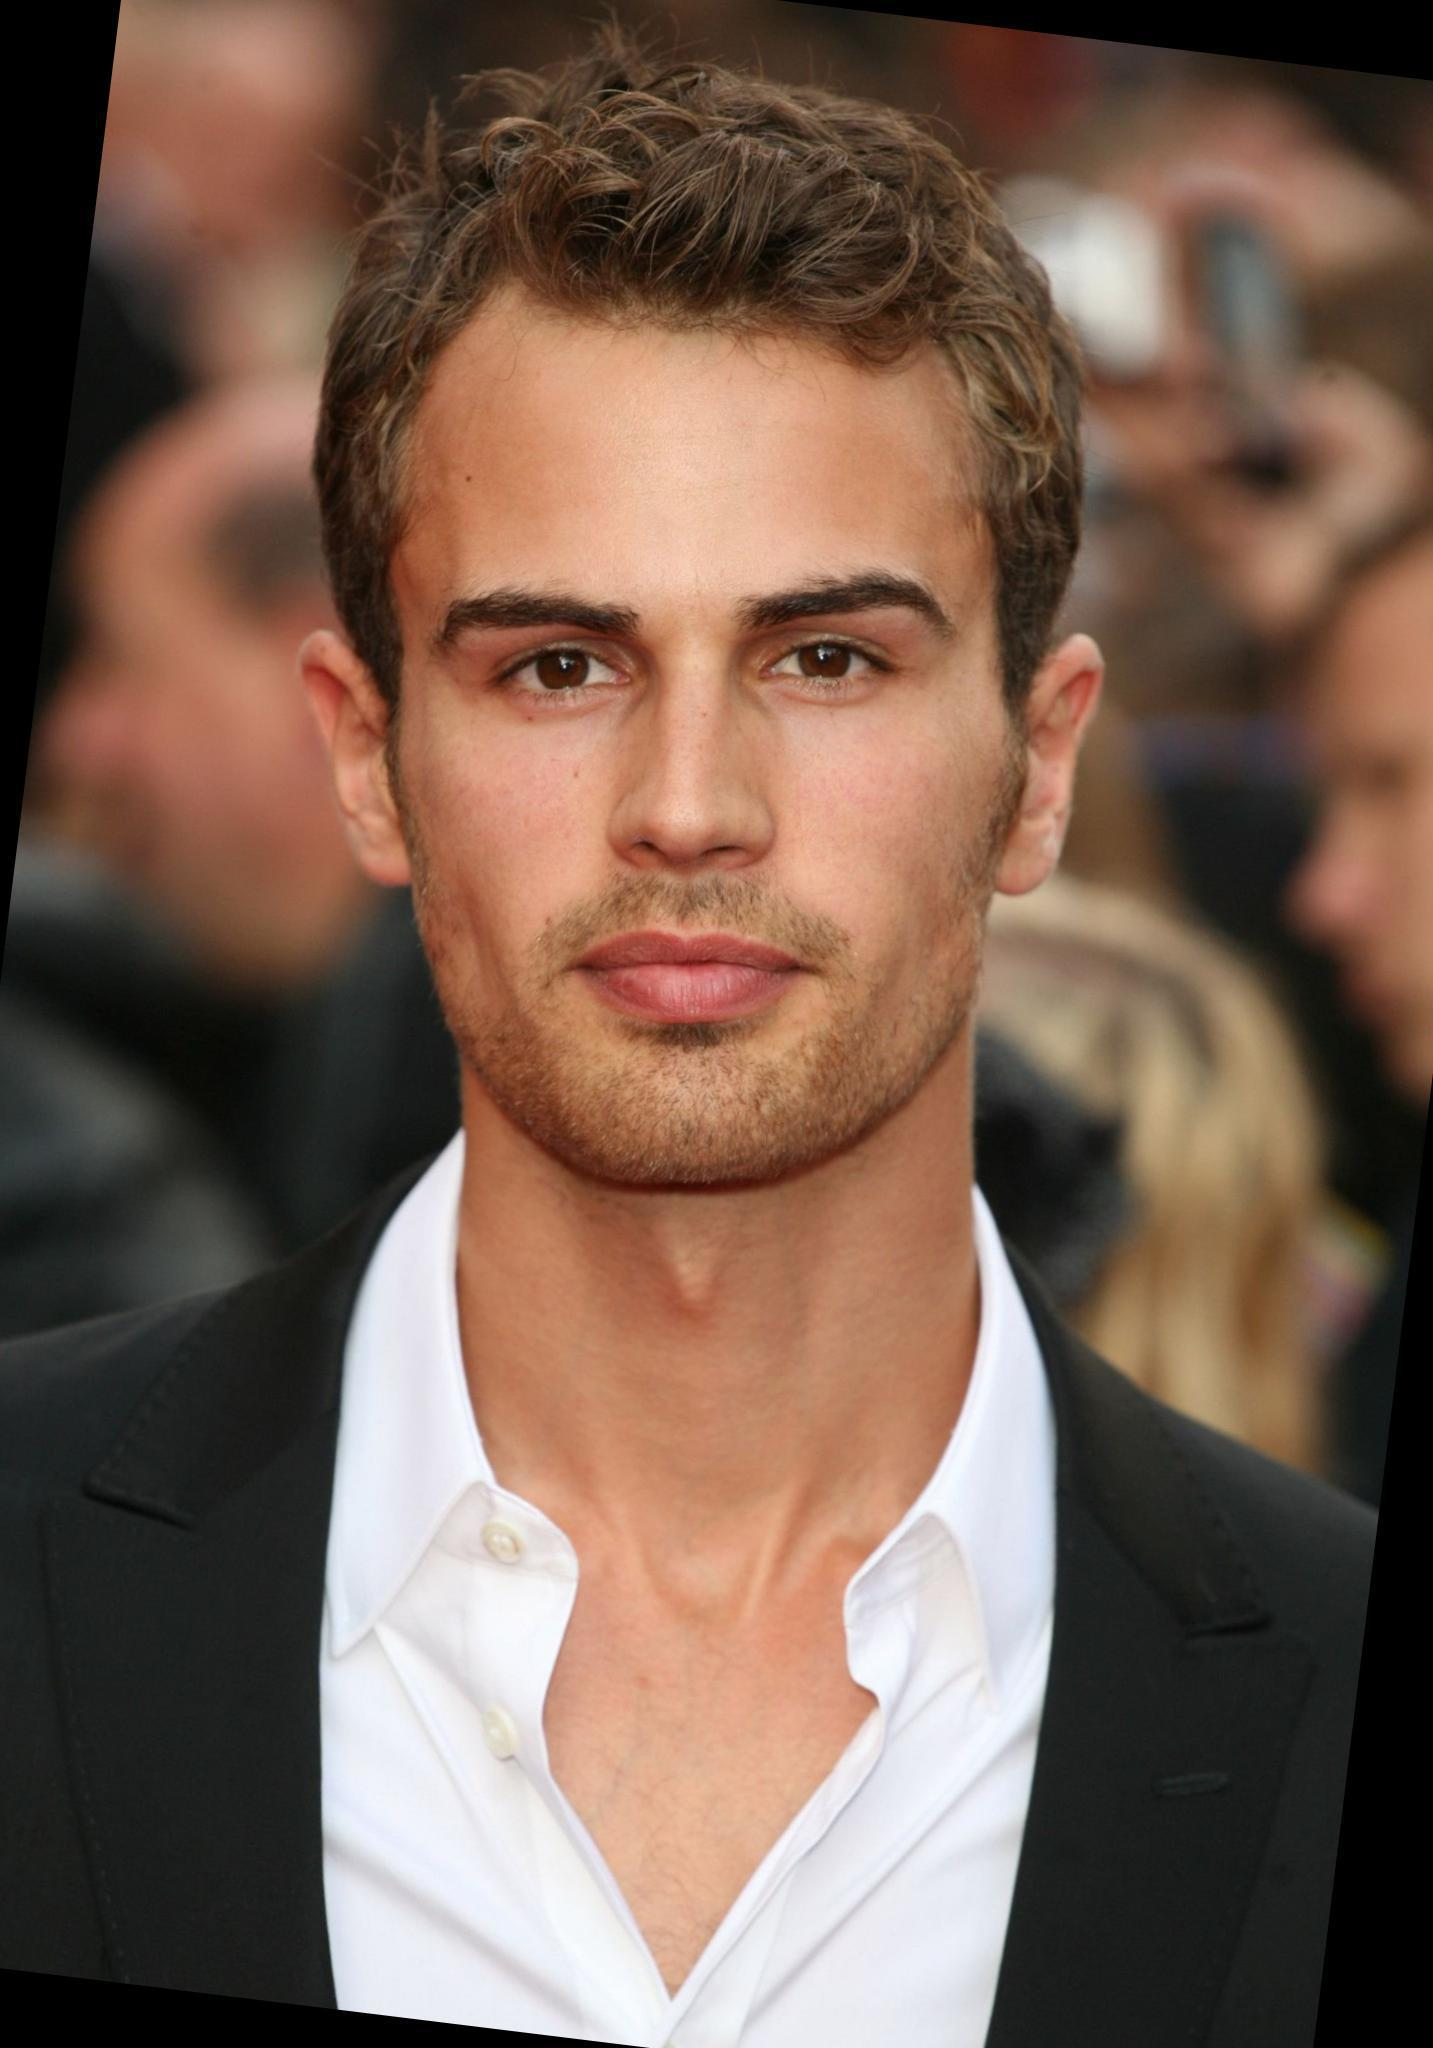Sober: (442, 300, 994, 1117)
